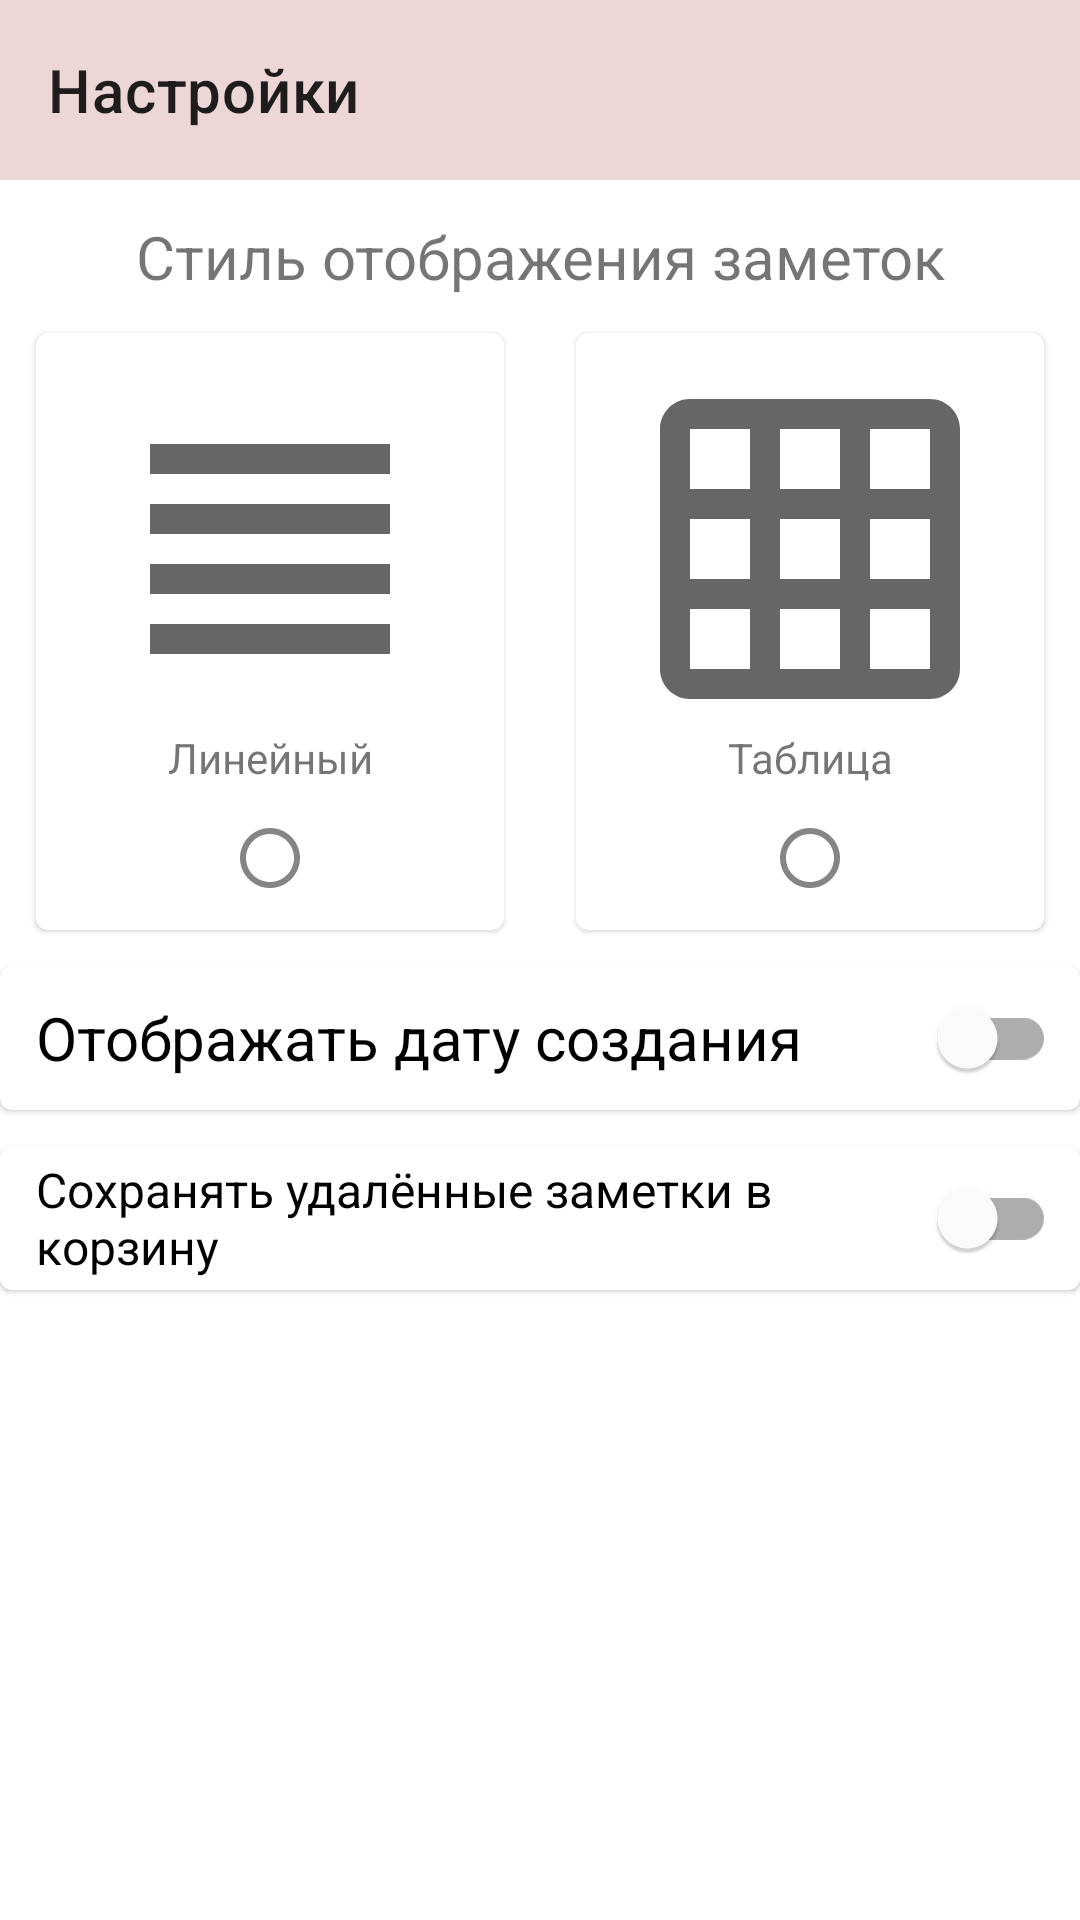

Locate icon controls on the screen. Image size 1080x1920, boxes as (x1, y1, x2, y2).
radio unchecked: (240, 828, 300, 888), (780, 828, 840, 888)
view headline: (150, 444, 390, 654)
